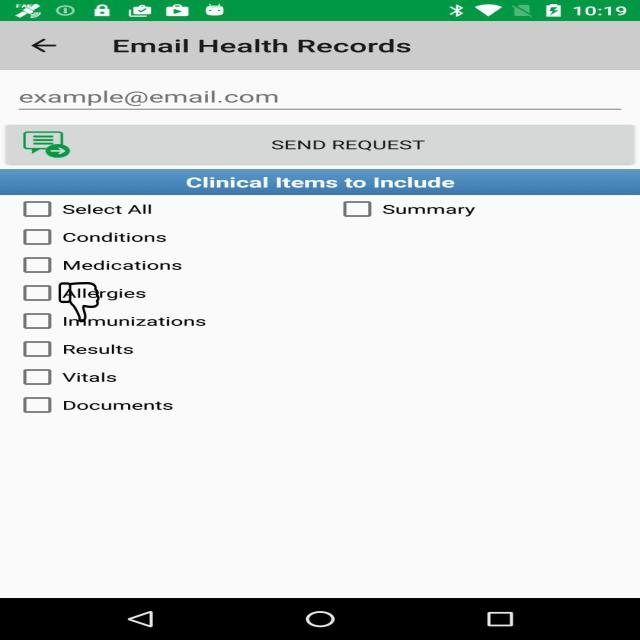obstruction: (58, 282, 100, 322)
